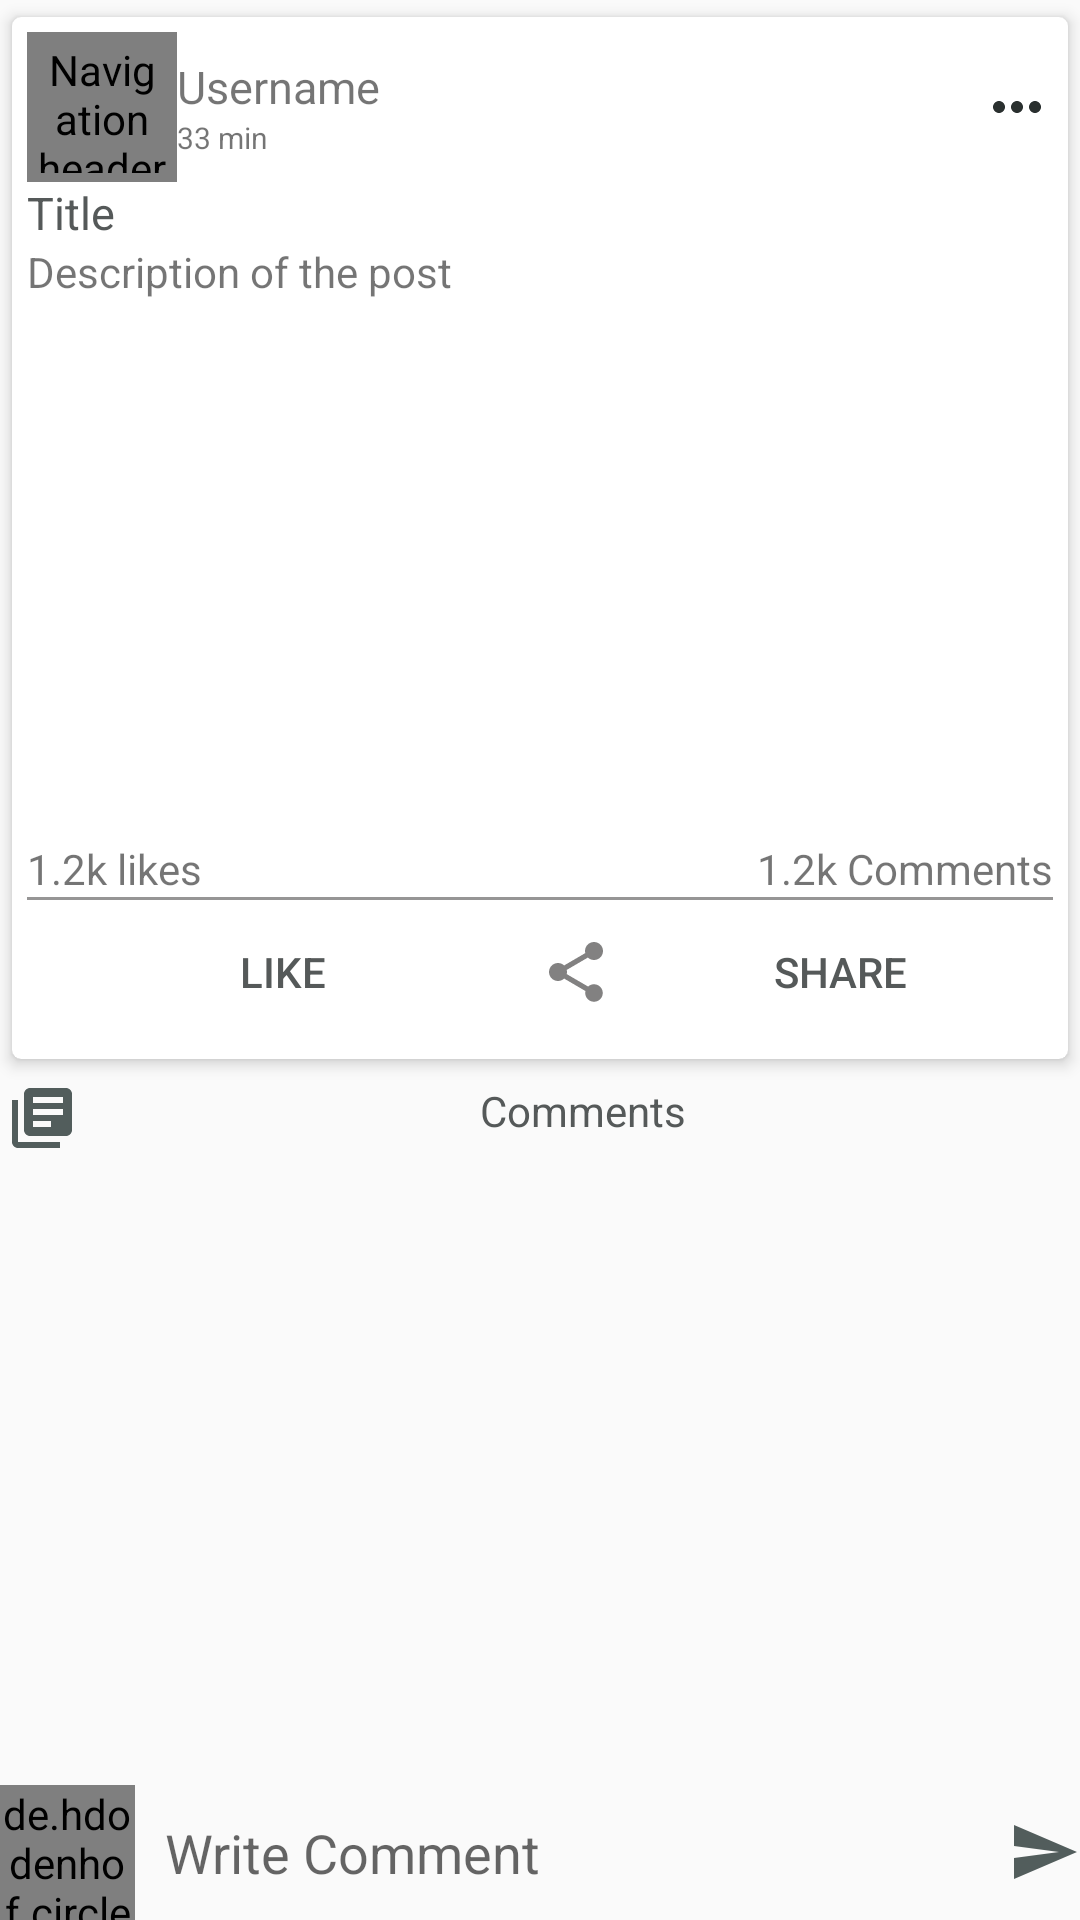

Screen size 1080w x 1920h. Icon name, then its box in pixels as (x1, y1, x2, y2):
more horiz: (993, 101, 1041, 113)
send: (1014, 1825, 1077, 1879)
